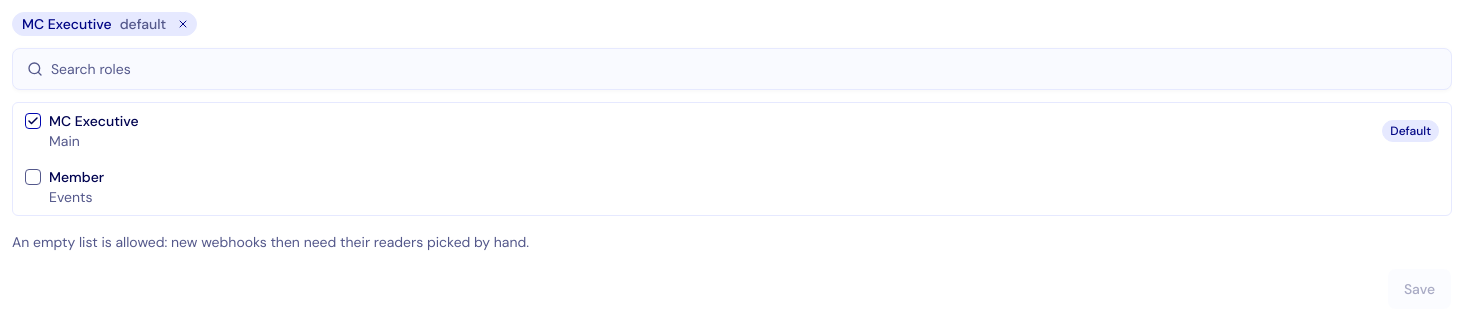
Test: Default readers settings › saves a changed list
Expected: the button "Save" is disabled, top-left (1387, 268), bottom-right (1452, 310)
Step 1. Click the checkbox named "Member" next to "Member" → [33, 177], box top-left (25, 169), bottom-right (41, 185)
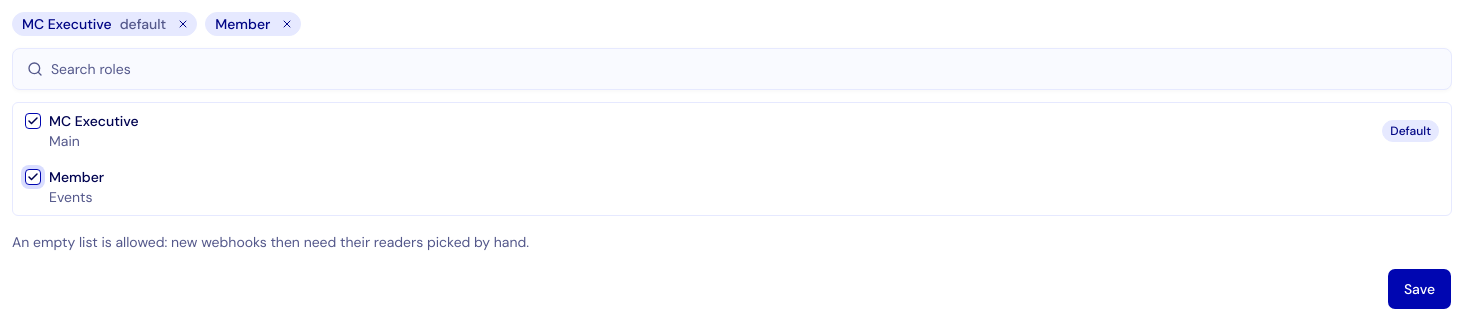
Expected: the button "Save" is enabled
Step 2. Click the button "Save" → [1419, 289], box top-left (1387, 268), bottom-right (1452, 310)
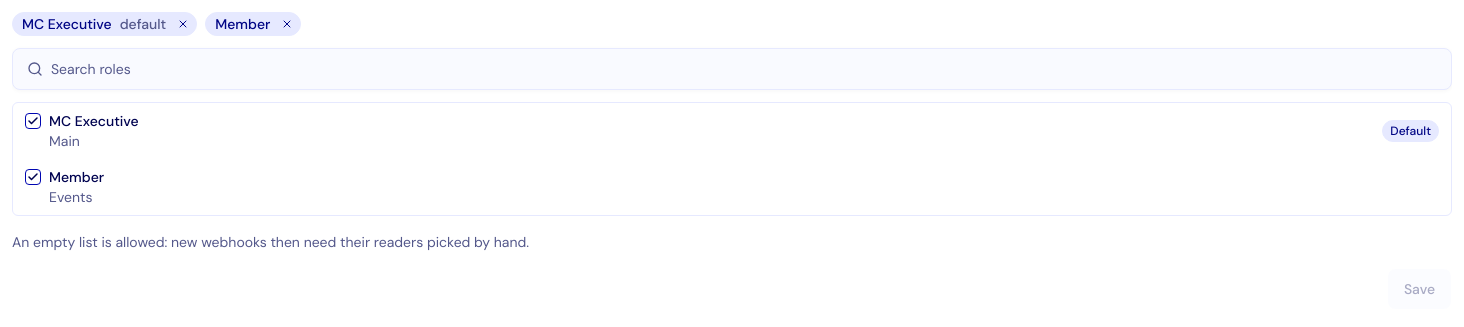
Expected: the button "Save" is disabled, top-left (1387, 268), bottom-right (1452, 310)
